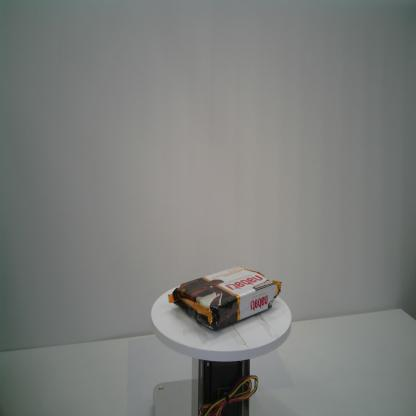Dessert: (166, 266, 284, 332)
